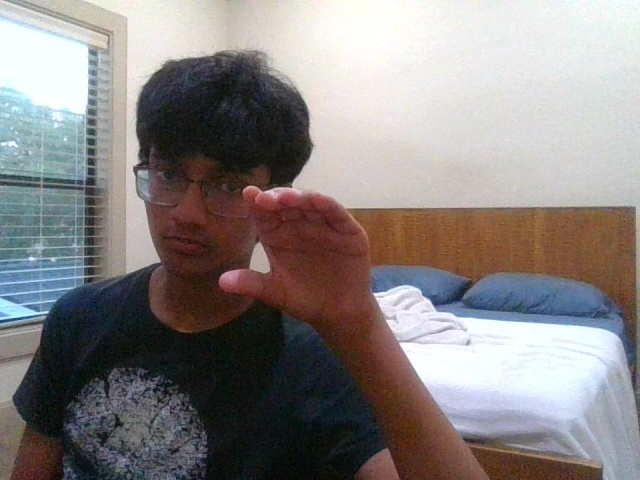no: (219, 185, 372, 316)
